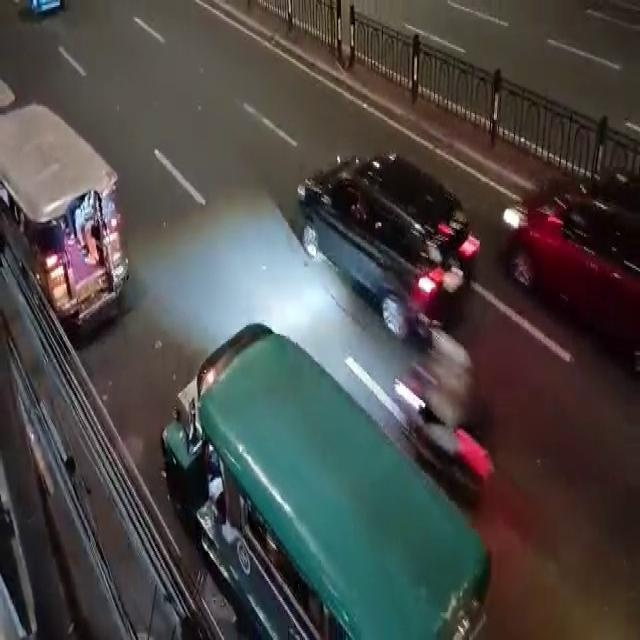car: (292, 122, 480, 348)
jeepney: (142, 297, 498, 638), (0, 94, 136, 358)
